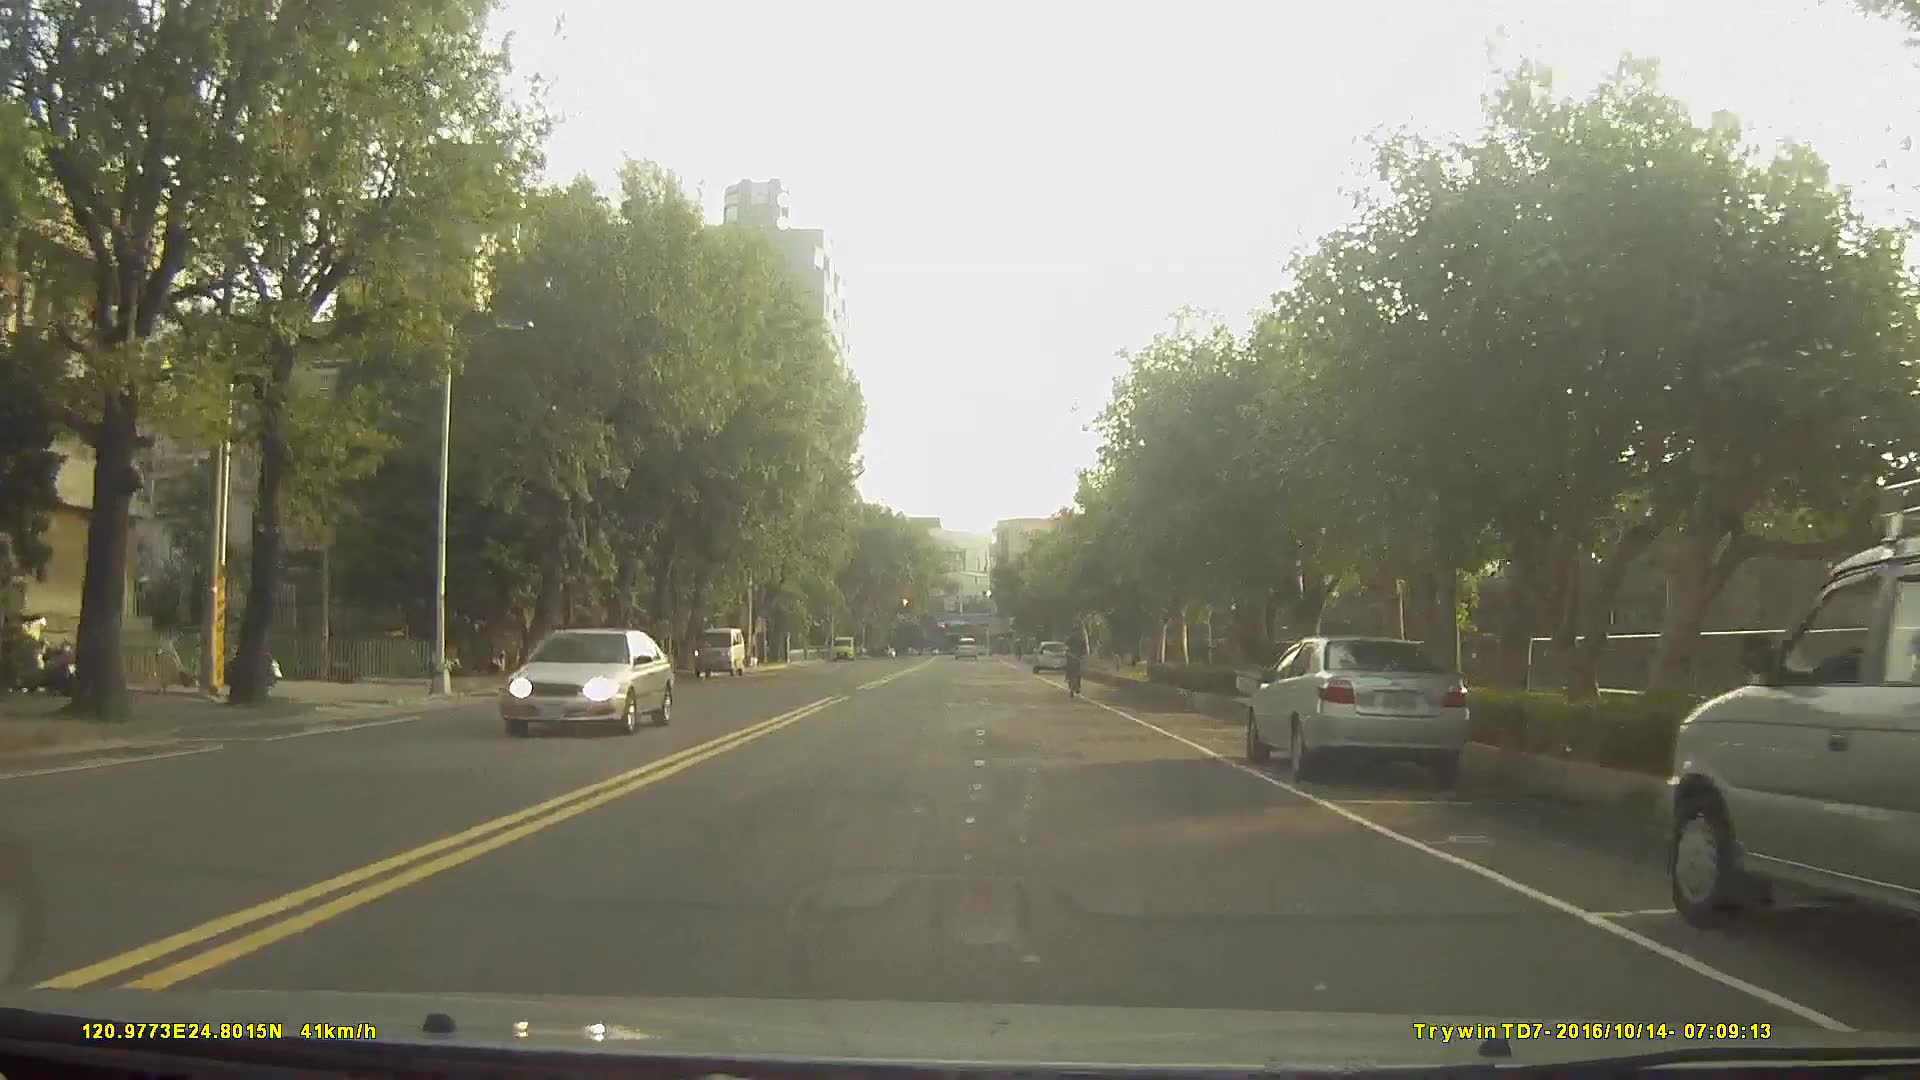rider: (1063, 618, 1090, 702)
vehicle: (1669, 534, 1920, 965), (1246, 634, 1473, 785), (496, 622, 674, 736), (607, 637, 669, 688), (692, 625, 745, 678), (1031, 637, 1071, 675), (954, 634, 980, 661)
